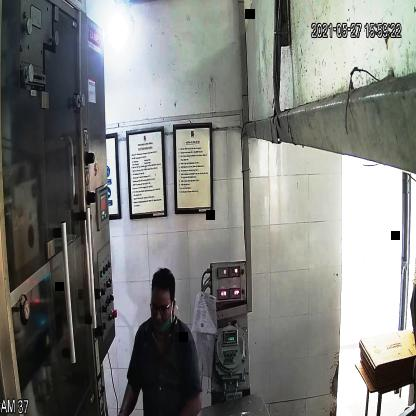goggles: (146, 290, 178, 320)
